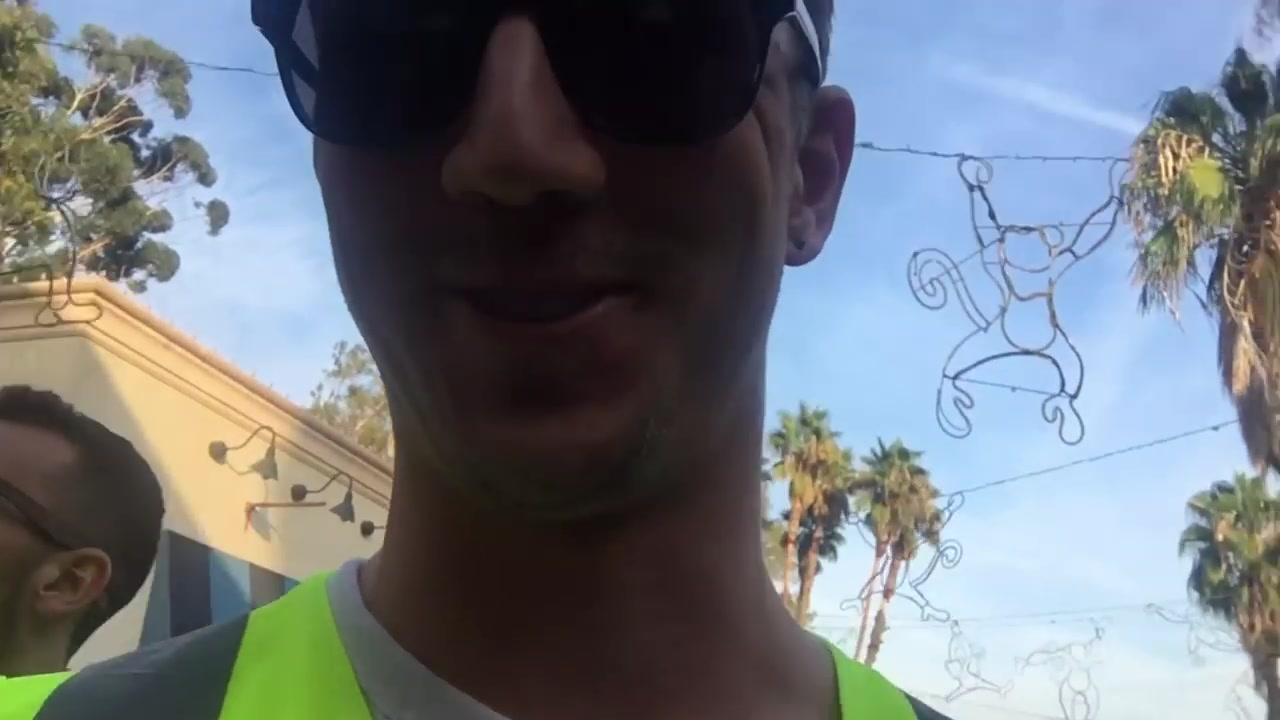vest: (1, 562, 973, 719)
